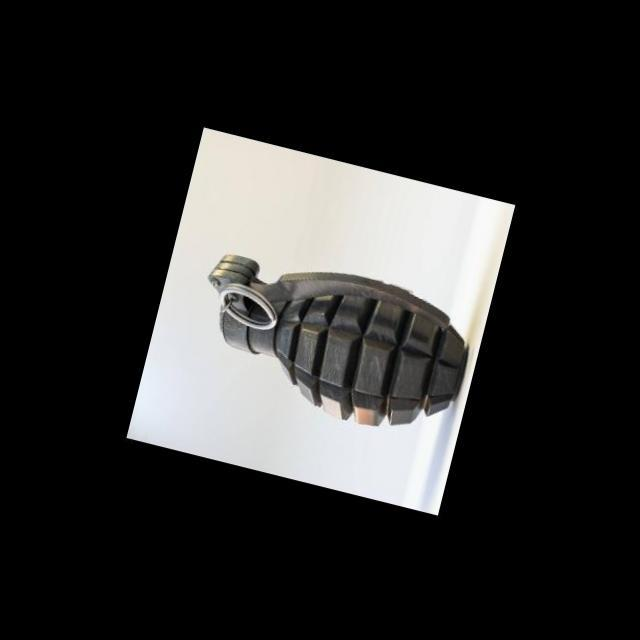grenade: (178, 231, 475, 438)
